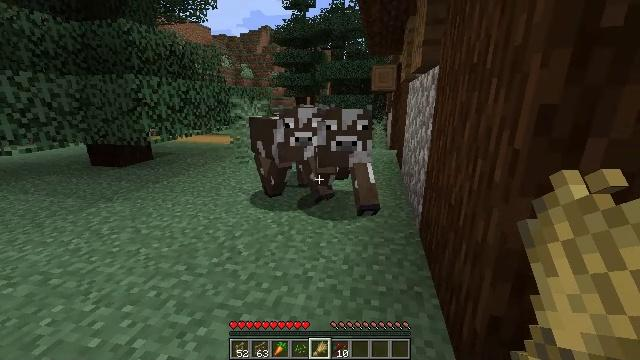cow: (252, 108, 333, 200), (318, 106, 380, 216)
